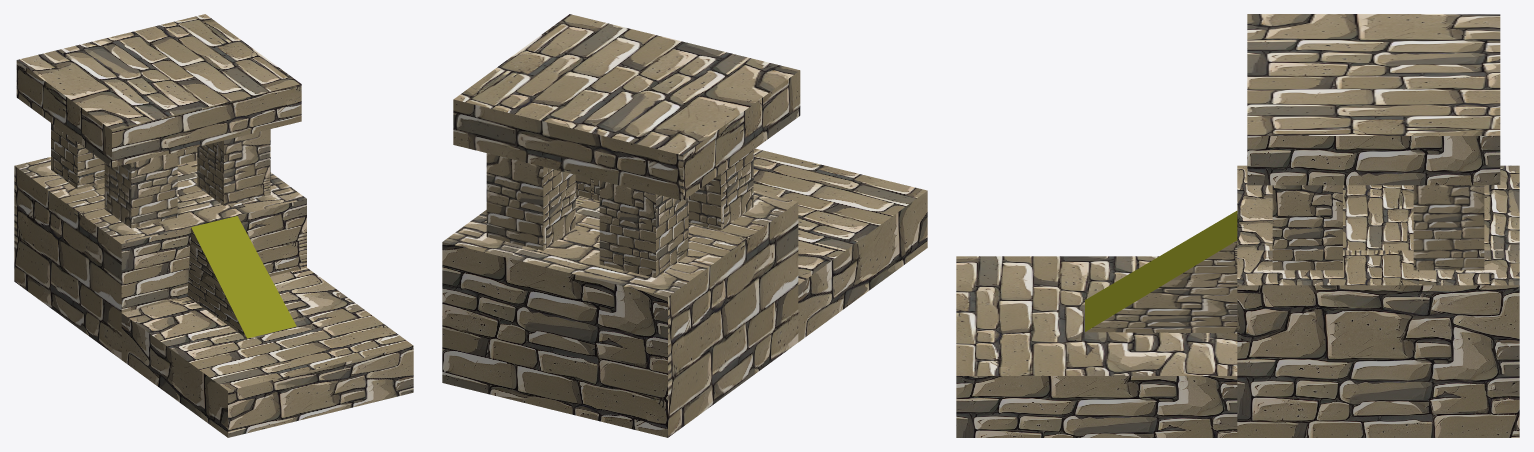
File: Piramide2.obj
3 views of the same model, side by side, from view 1: azimuth 30°, elevation 25°; view 2: azimuth 150°, elevation 25°; view 3: azimuth 270°, elevation 25° (orthographic). The views are drawn at different scales.
Visible parts, largest first — view 1: Cube.005, Cube.011; view 2: Cube.005; view 3: Cube.005, Cube.011.
Boxes of the visible parts, left/top/right/bottom form: Cube.005: left=14, top=14, right=413, bottom=437; Cube.011: left=191, top=216, right=296, bottom=338; Cube.005: left=442, top=14, right=927, bottom=437; Cube.005: left=956, top=14, right=1519, bottom=437; Cube.011: left=1085, top=211, right=1237, bottom=331.
Size of the model in its own units: 34.6 by 39.47 by 66.99.
